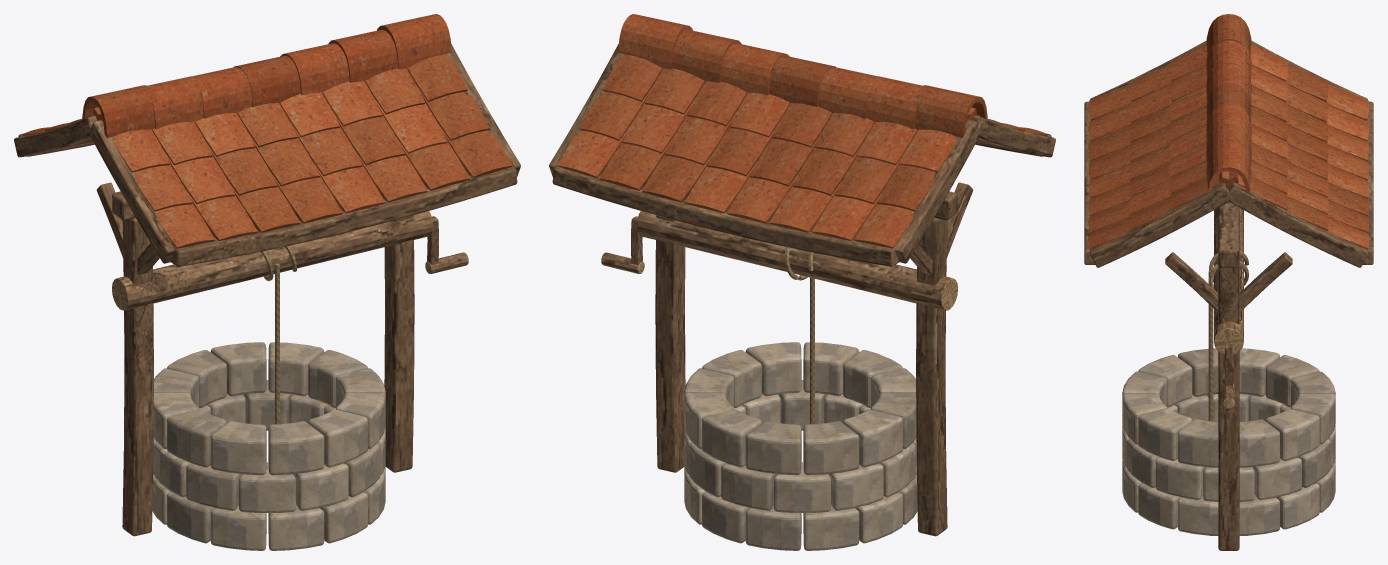
File: well_LOD0.fbx
The picture shows the model from 3 angles, left to right: view 1: azimuth 30°, elevation 25°; view 2: azimuth 150°, elevation 25°; view 3: azimuth 270°, elevation 25°; orthographic projection. The views are drawn at different scales.
Parts seen in each view (by area): view 1: PROP_Well_A_LOD0; view 2: PROP_Well_A_LOD0; view 3: PROP_Well_A_LOD0.
Part boxes in pixels (x1,y1,x2,y2): PROP_Well_A_LOD0: (14, 14, 520, 550); PROP_Well_A_LOD0: (549, 14, 1055, 550); PROP_Well_A_LOD0: (1084, 14, 1373, 550).
Bounding box in the file's own units: 259 × 294 × 192.
